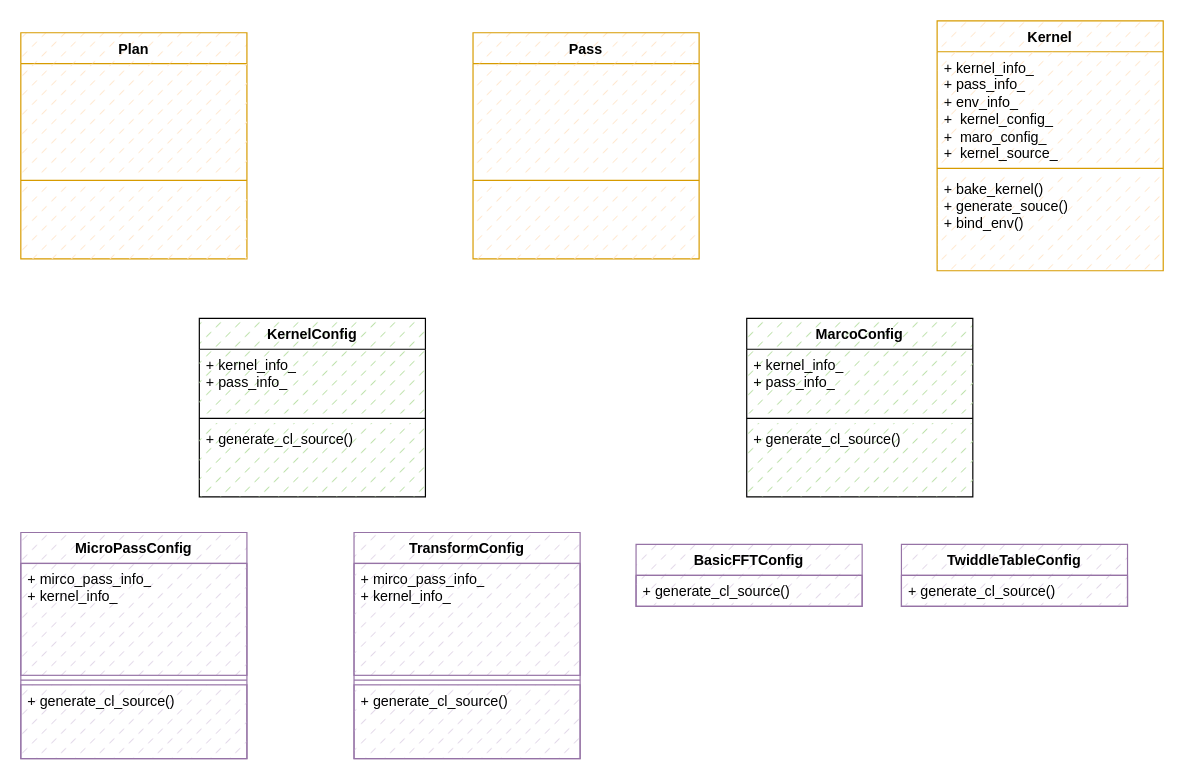
This 1184x783 diagram has some shape labels left out. Each missing label, with the centre of its shape:
"+ bake_pass() + bind_env() + generate_kernel()" belongs at point 585,221.
"+ bake_plan() + bind_env() + generate_kernel()" belongs at point 133,221.
"+ fft_info + pass_list_ + env_info_ - buffer" belongs at point 133,119.
"+ kernel_info_ + pass_info_ + env_info_ - kernel_" belongs at point 585,119.
